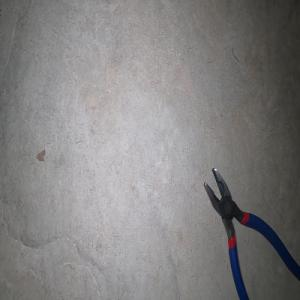Pliers: (203, 167, 300, 300)
